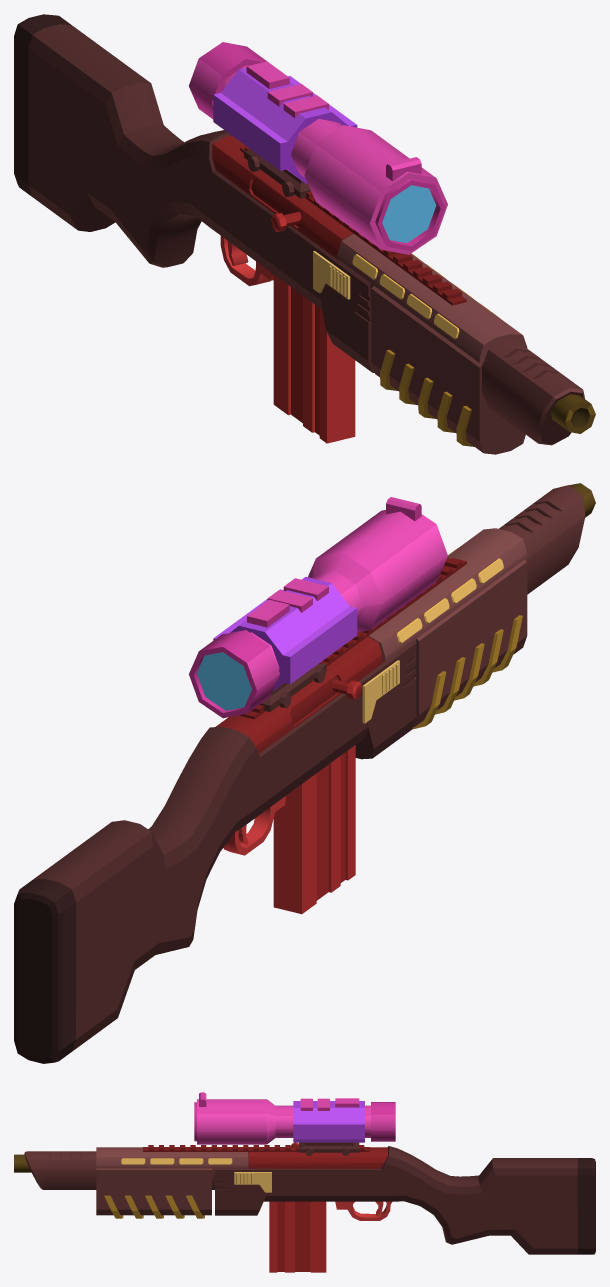
Rendered from Weapon_AR01_G4_outline.fbx.
3 renders of one model, top to bottom at view 1: azimuth 30°, elevation 25°; view 2: azimuth 150°, elevation 25°; view 3: azimuth 270°, elevation 25°, orthographic. The views are drawn at different scales.
Visible parts, largest first — view 1: Weapon_AR01_G4; view 2: Weapon_AR01_G4; view 3: Weapon_AR01_G4.
Boxes of the visible parts, left/top/right/bottom form: Weapon_AR01_G4: left=14, top=14, right=595, bottom=454; Weapon_AR01_G4: left=14, top=483, right=595, bottom=1063; Weapon_AR01_G4: left=14, top=1092, right=595, bottom=1272.
Size of the model in its own units: 1.3 by 4.97 by 15.14.
